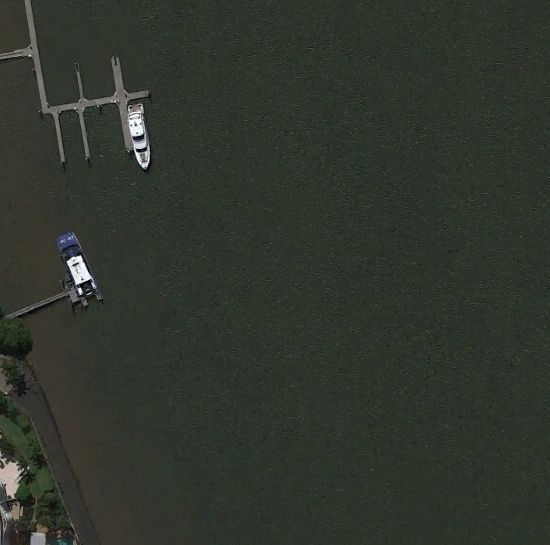boat: (56, 230, 103, 311), (125, 103, 153, 171)
